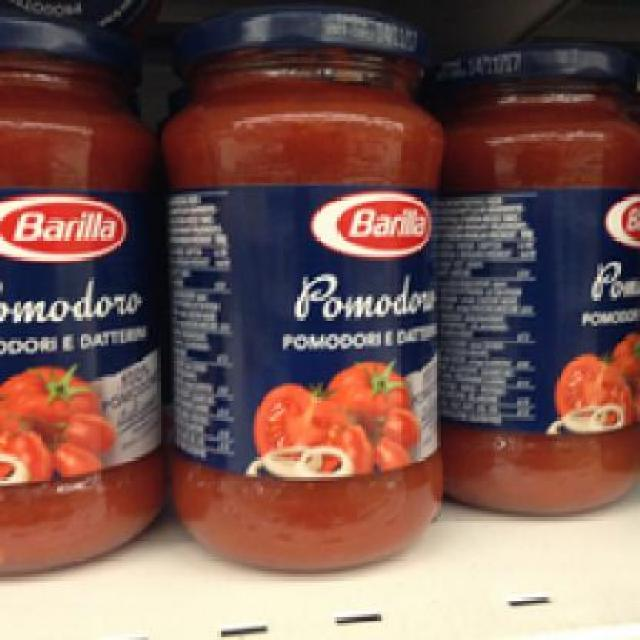Tomato Sauce: (150, 9, 444, 568), (437, 34, 637, 512), (0, 11, 160, 578)
